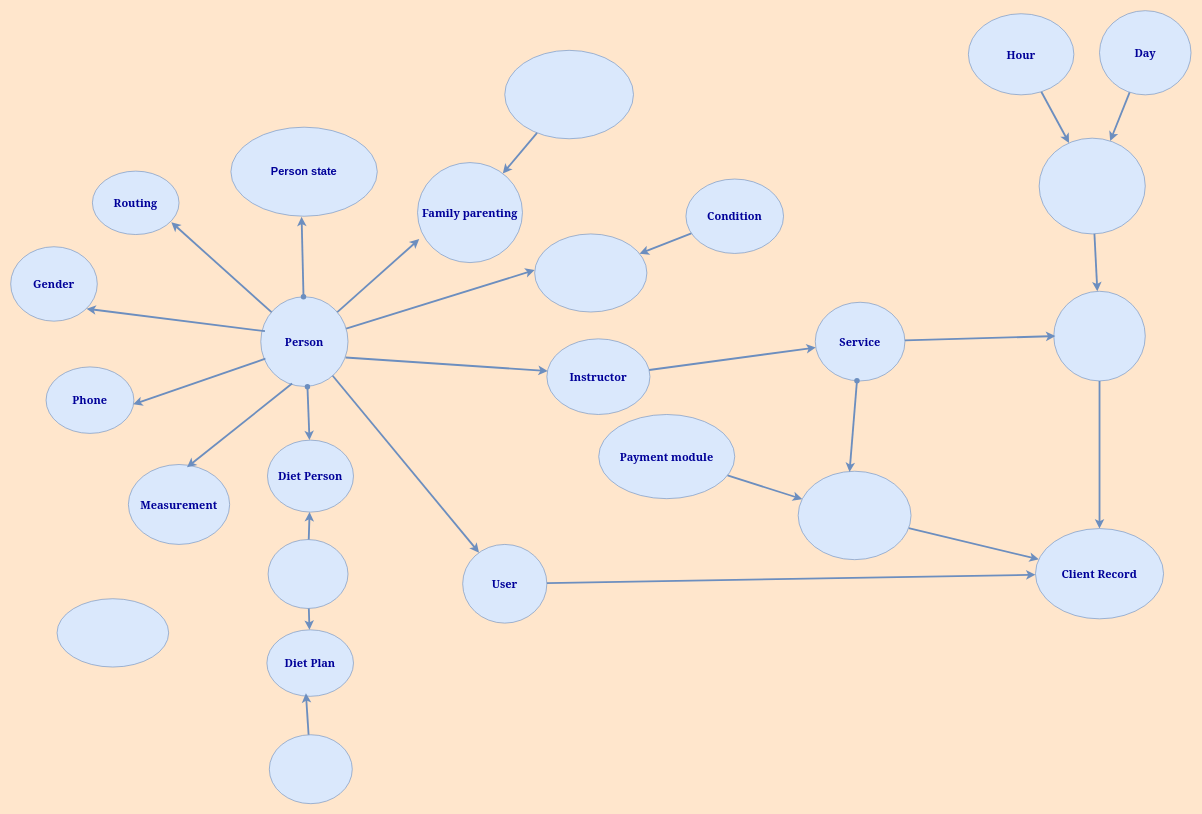
Image size: 1202x814. Some labels were removed from this diagram. Here are the shapes that lost their labels. From the top down, the centre of each, then its label:
At (x=568, y=94): "Relationship".
At (x=1092, y=186): "Day hour Service".
At (x=590, y=272): "Clinical detail person".
At (x=1099, y=336): "Relation Service schedule".
At (x=854, y=515): "Service pay ment mdule".
At (x=307, y=573): "Diet".
At (x=112, y=632): "Inventory".
At (x=310, y=769): "Food".
